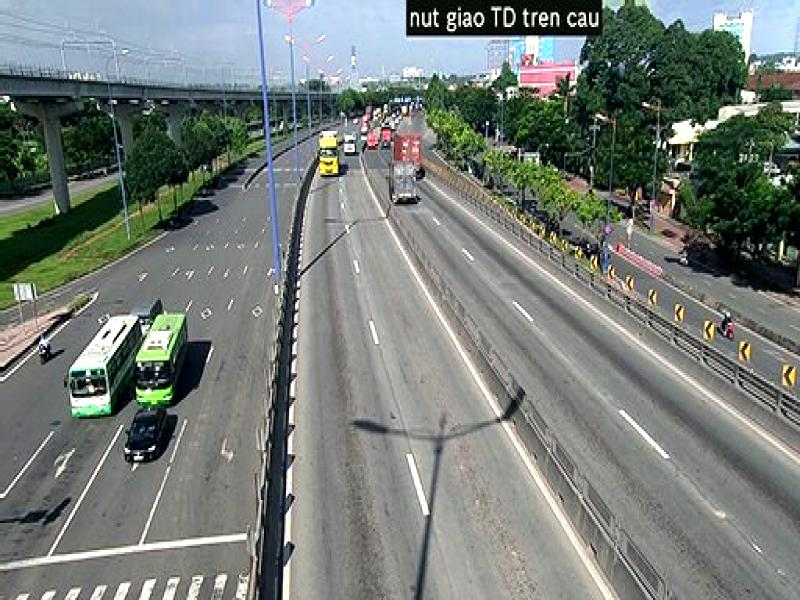bus: (58, 302, 143, 421), (127, 304, 196, 408)
